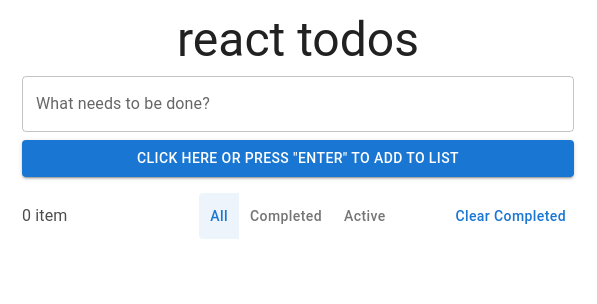
Test: App › the number of completed tasks should be reduced after marking its completion
In the field labelled "What needs to be done?": (298, 104) 22,76 -> 574,132, type "New Task333"
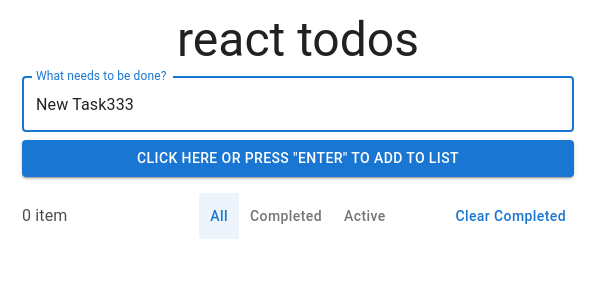
Click the button with aria-label "submitButton": (298, 158) 22,140 -> 574,176
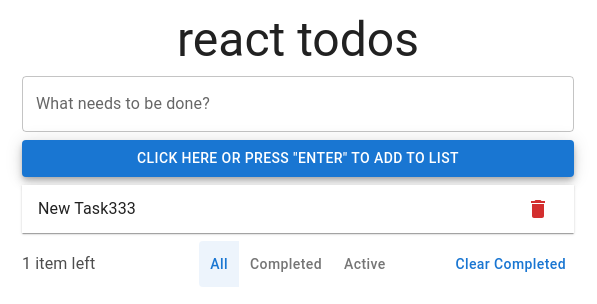
Expected: the text named "countActiveTodo" reads "1 item left", 22,254 -> 95,273
Click the element named "todoItemText": (87, 208) 38,198 -> 136,218
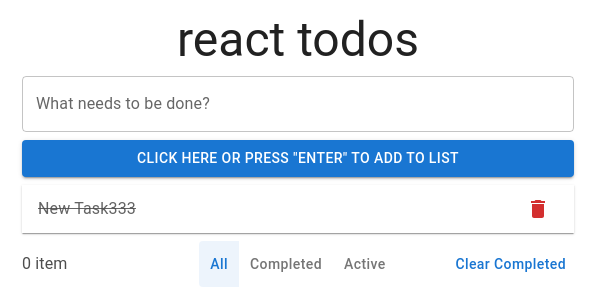
Expected: the text named "countActiveTodo" reads "0 item", 22,254 -> 68,273
